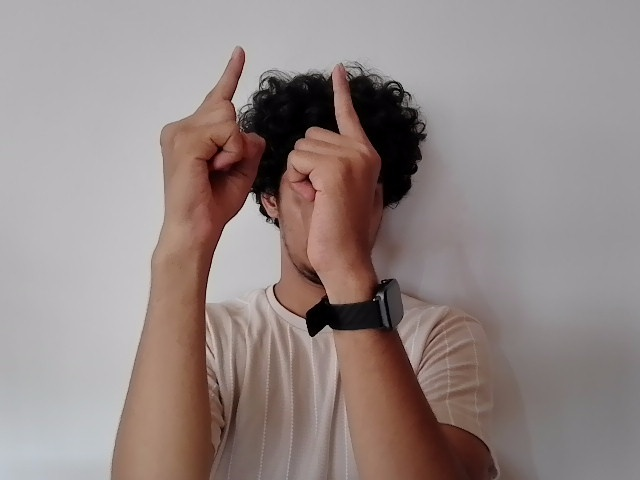play: (157, 43, 384, 250)
